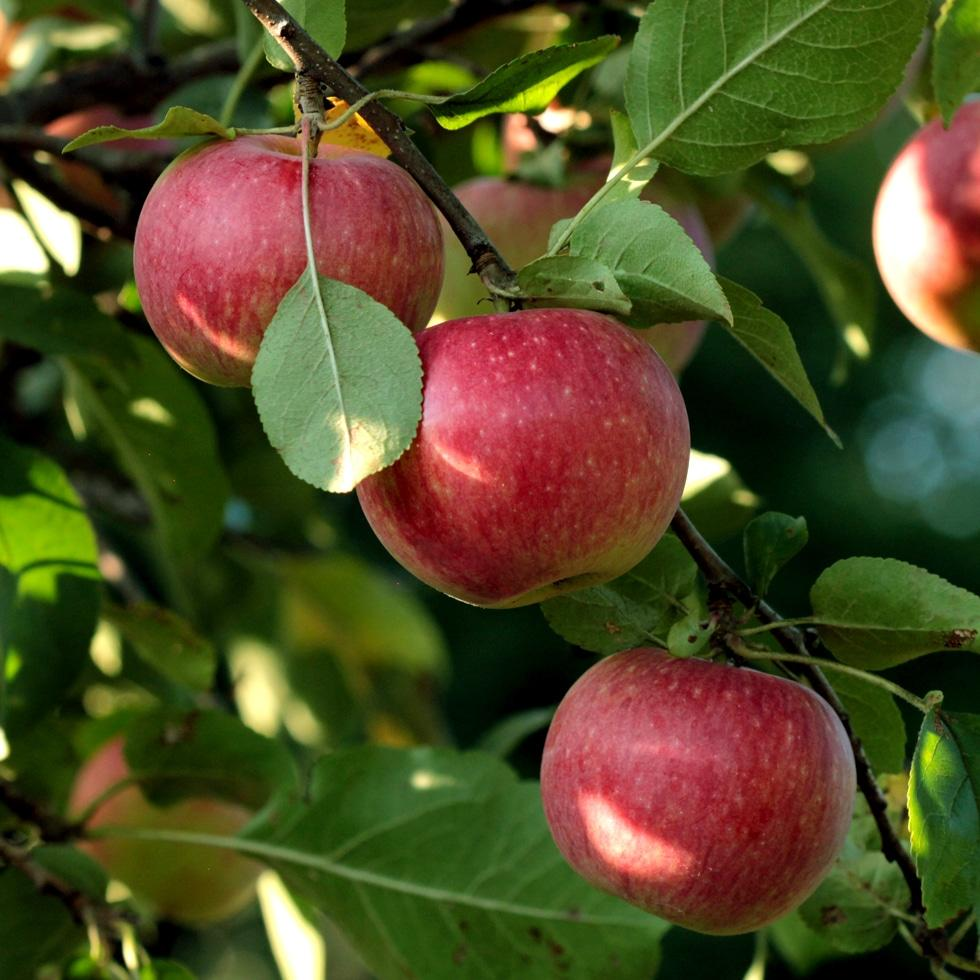apple: (346, 304, 719, 618), (530, 632, 871, 964), (132, 124, 448, 416)
